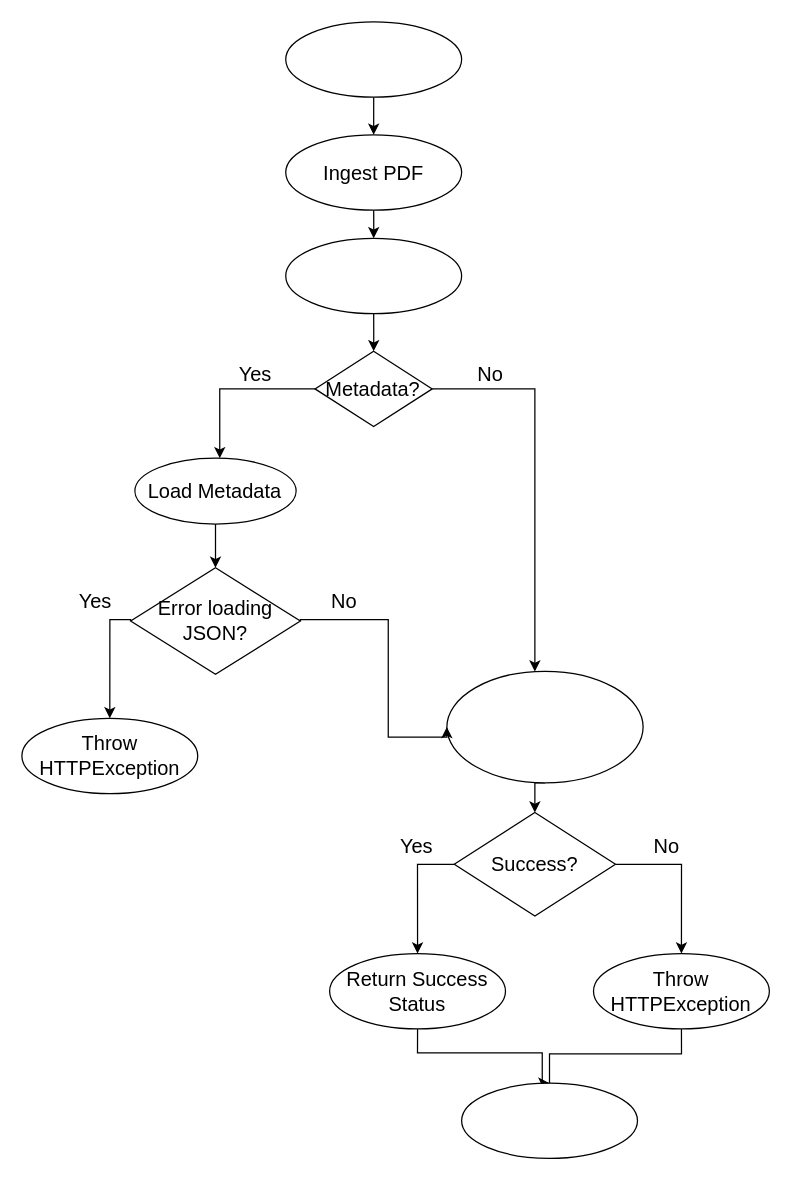
This 791x1181 diagram has some shape labels left out. The centre of each missing label's shape, as x and y in pixels:
"Ingest Document using Ingestion Service" belongs at [544,726].
"Start" belongs at [373,59].
"Stop" belongs at [549,1120].
"Validate PDF" belongs at [373,275].
